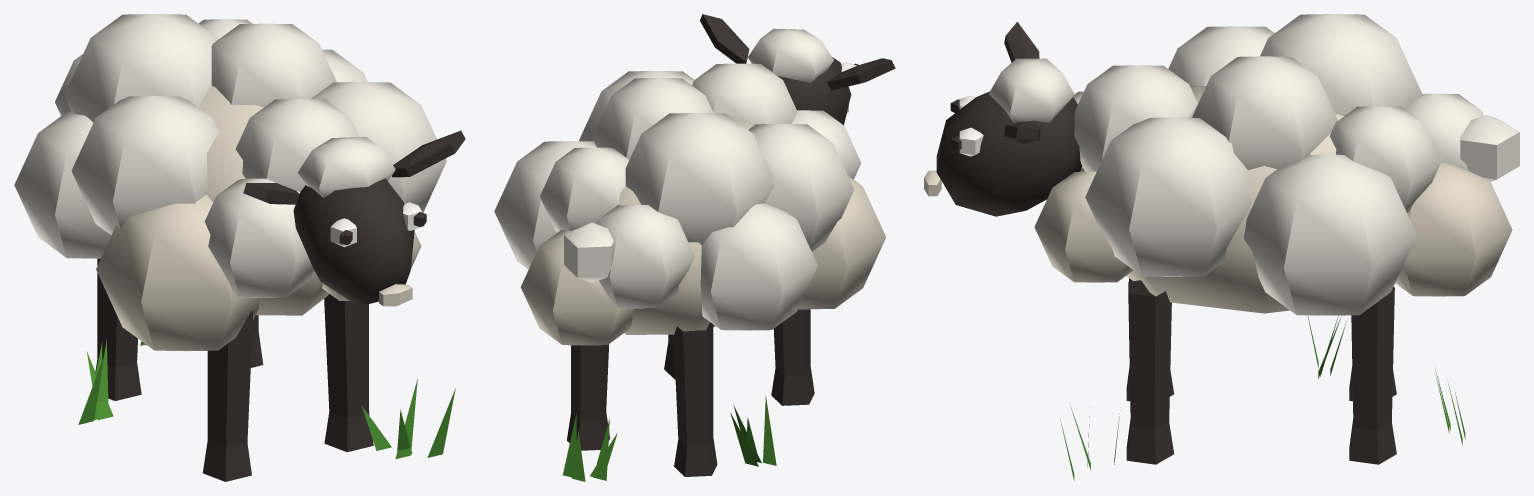
File: sheep.glb
3 views of the same model, side by side, from view 1: azimuth 30°, elevation 25°; view 2: azimuth 150°, elevation 25°; view 3: azimuth 270°, elevation 25° (orthographic). The views are drawn at different scales.
Parts seen in each view (by area): view 1: sheep; view 2: sheep; view 3: sheep.
Part boxes in pixels (x1,y1,x2,y2): sheep: (14, 14, 465, 481); sheep: (494, 14, 895, 481); sheep: (924, 14, 1519, 480).
Size of the model in its own units: 0.757 by 0.8482 by 1.18.
